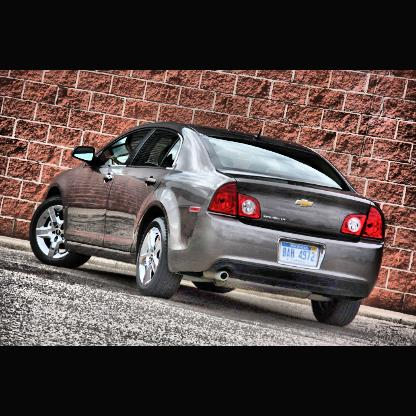Chevrolet Malibu Hybrid Sedan 2010: (30, 122, 386, 328)
